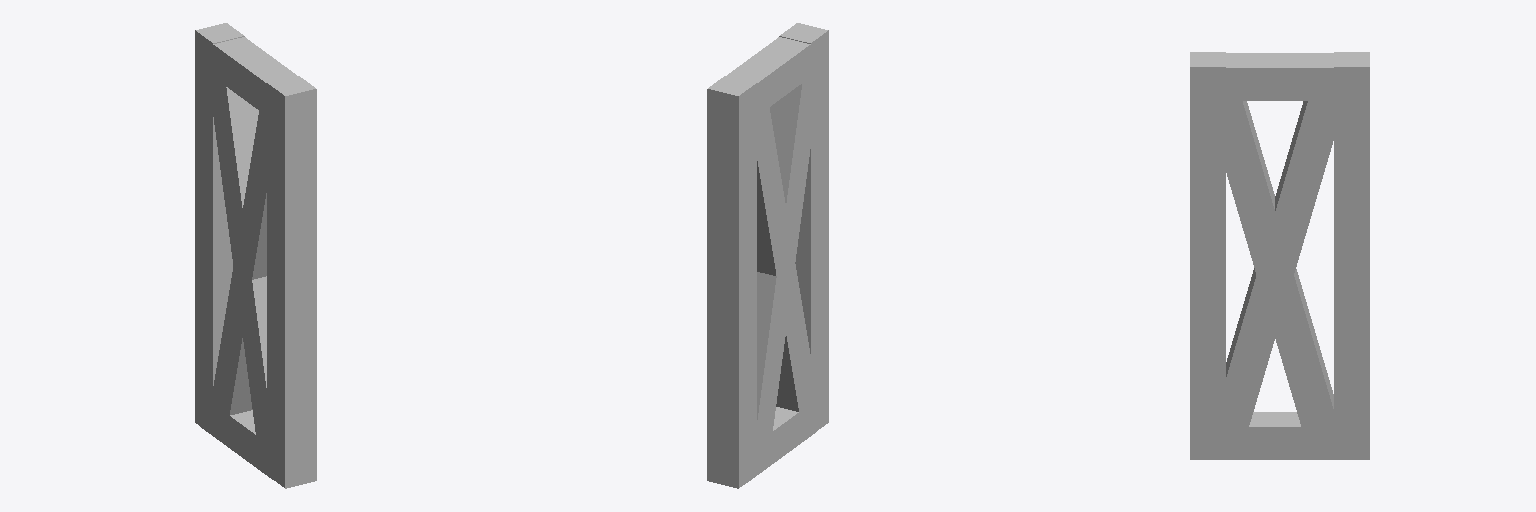
The model's file is barndoor.obj.
3 renders of one model, left to right at view 1: azimuth 30°, elevation 25°; view 2: azimuth 150°, elevation 25°; view 3: azimuth 270°, elevation 25°, orthographic.
Parts seen in each view (by area): view 1: Cube.002; view 2: Cube.002; view 3: Cube.002.
Part boxes in pixels (x1,y1,x2,y2): Cube.002: (195, 23, 316, 488); Cube.002: (707, 23, 828, 488); Cube.002: (1190, 52, 1369, 459).
Size of the model in its own units: 0.5 by 6.01 by 2.5.